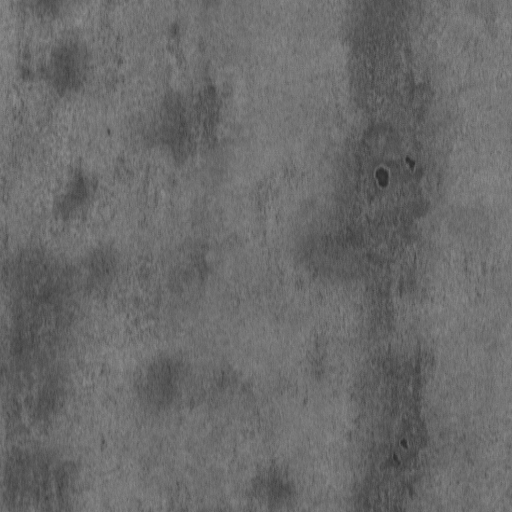aokeng: (373, 164, 391, 189)
